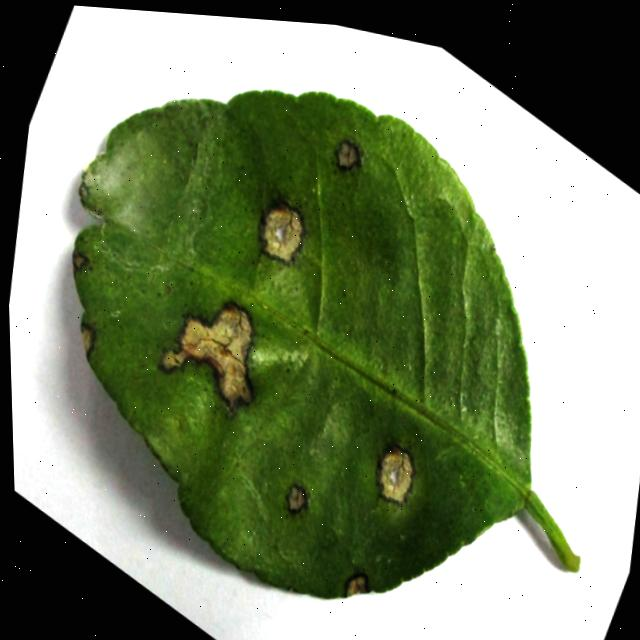antracnose: (72, 91, 578, 597), (161, 302, 252, 412), (260, 202, 303, 262), (377, 445, 413, 504), (336, 140, 360, 169), (286, 483, 307, 513), (345, 573, 368, 596), (80, 323, 95, 358), (73, 251, 88, 274)
